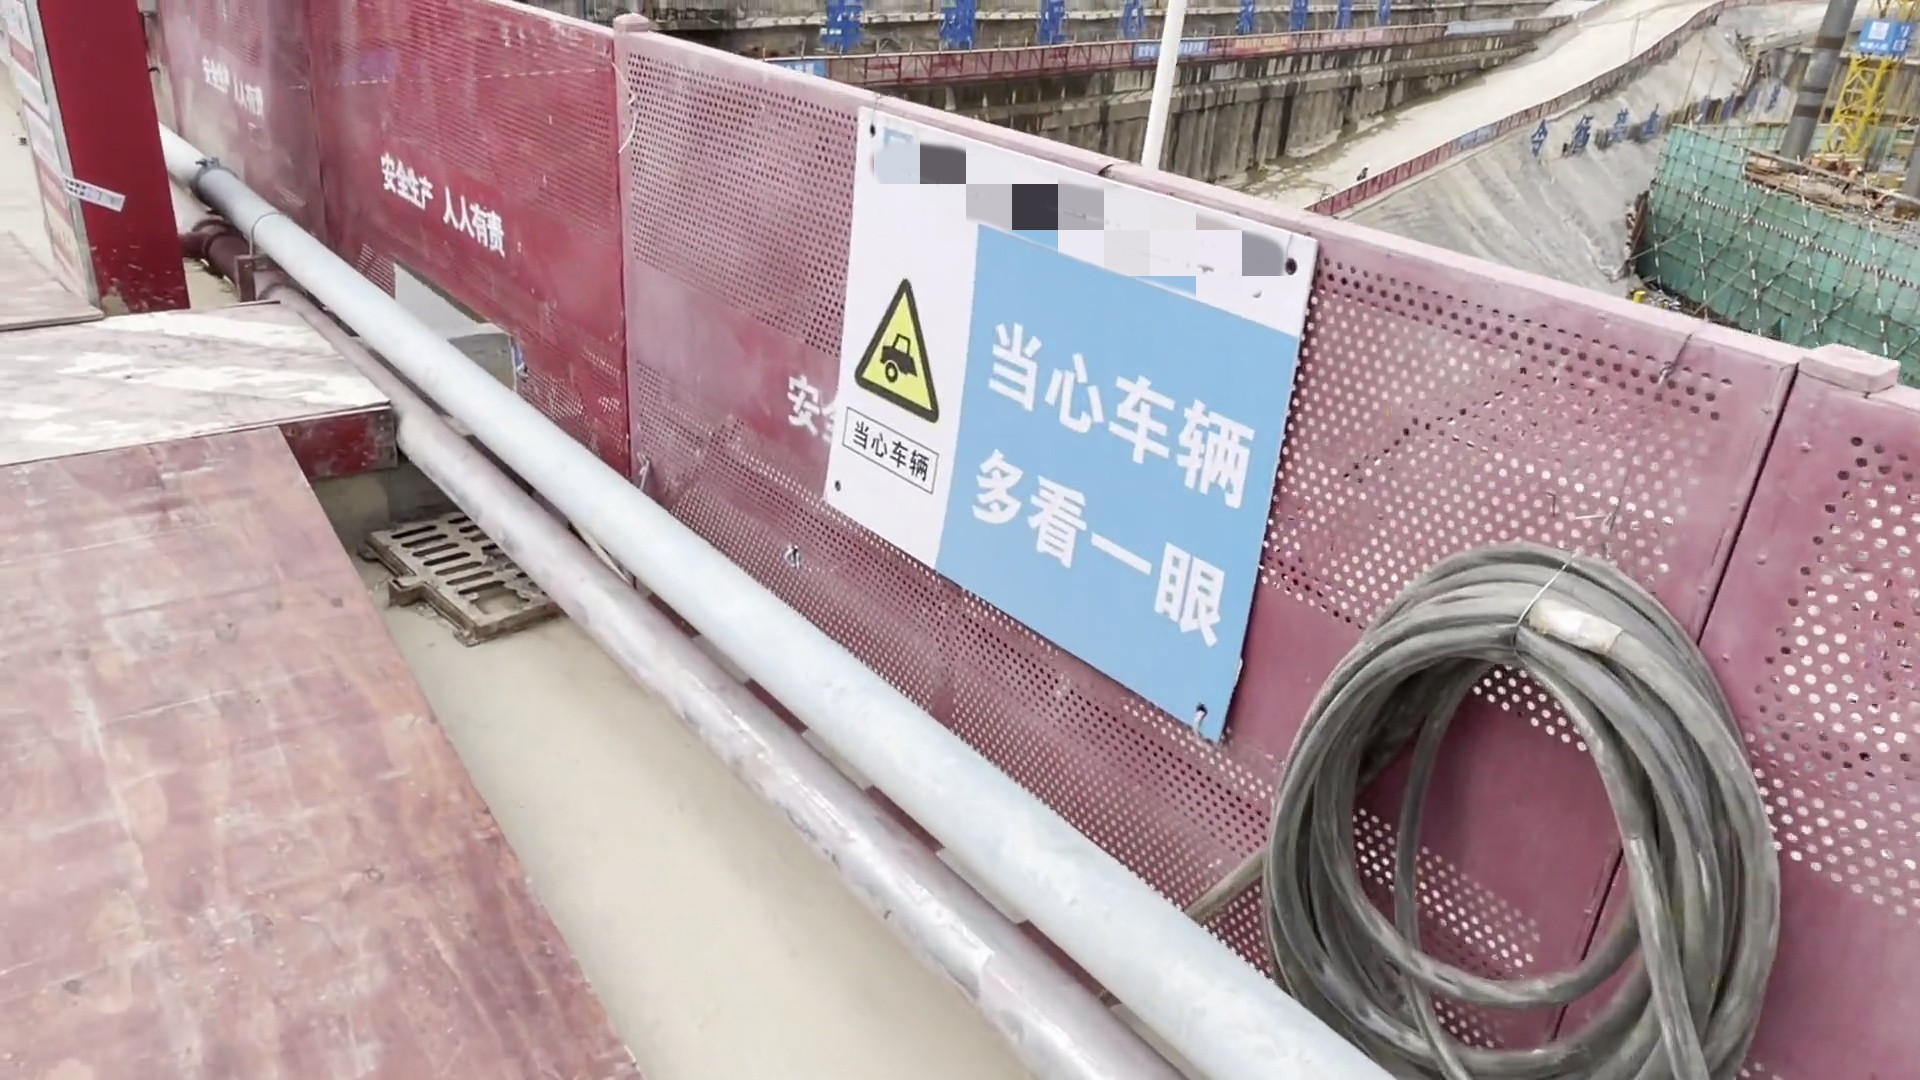board: (11, 411, 663, 1080)
fence: (339, 3, 845, 609)
slogan: (806, 87, 1311, 770)
